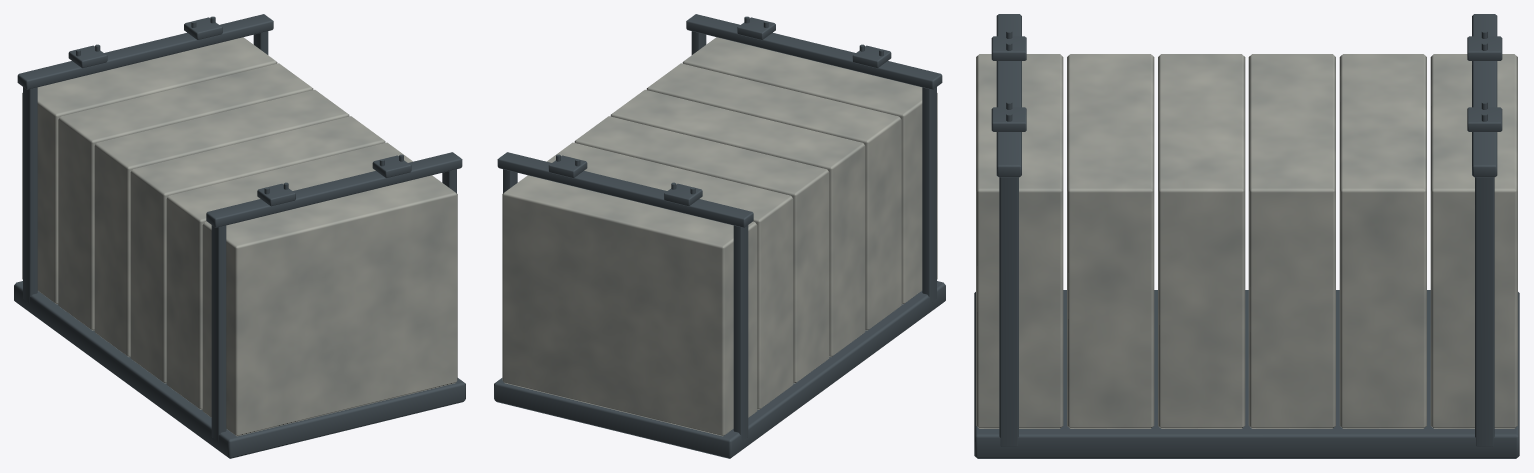
The model's file is counterweight_rack.glb.
3 views of the same model, side by side, from view 1: azimuth 30°, elevation 25°; view 2: azimuth 150°, elevation 25°; view 3: azimuth 270°, elevation 25° (orthographic). The views are drawn at different scales.
Parts seen in each view (by area): view 1: counterweight_rack; view 2: counterweight_rack; view 3: counterweight_rack.
Part boxes in pixels (x1,y1,x2,y2): counterweight_rack: (14,14,465,458); counterweight_rack: (494,14,945,458); counterweight_rack: (974,14,1519,458).
Bounding box in the file's own units: 2.58 × 2.48 × 3.9.
2 materials, 1 textured.
